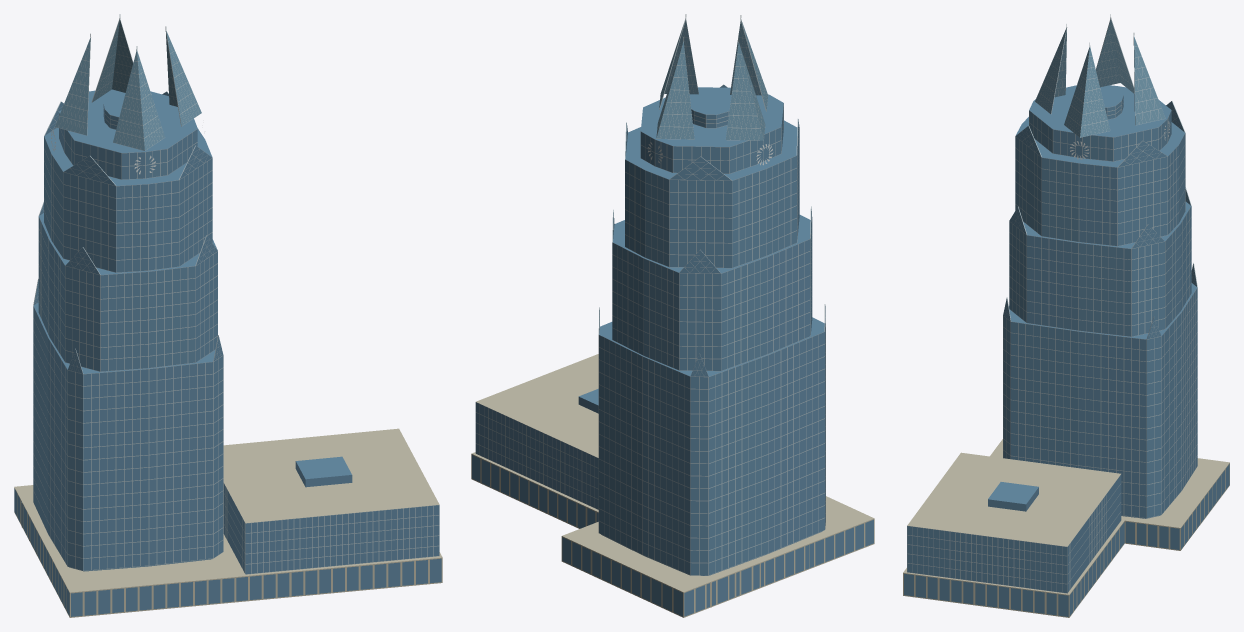
Rendered from frost-bank-tower-near.glb.
3 renders of one model, left to right at view 1: azimuth 30°, elevation 25°; view 2: azimuth 150°, elevation 25°; view 3: azimuth 270°, elevation 25°, orthographic. The views are drawn at different scales.
Parts seen in each view (by area): view 1: frost-bank-tower-0-glass, frost-bank-tower-0-blueGlass, frost-bank-tower-0-trim, frost-bank-tower-0-stone, frost-bank-tower-0-roof, frost-bank-tower-0-light, frost-bank-tower-0-occupiedGlass; view 2: frost-bank-tower-0-glass, frost-bank-tower-0-blueGlass, frost-bank-tower-0-trim, frost-bank-tower-0-stone, frost-bank-tower-0-roof, frost-bank-tower-0-light, frost-bank-tower-0-occupiedGlass; view 3: frost-bank-tower-0-glass, frost-bank-tower-0-blueGlass, frost-bank-tower-0-trim, frost-bank-tower-0-stone, frost-bank-tower-0-roof, frost-bank-tower-0-light, frost-bank-tower-0-occupiedGlass.
Boxes of the visible parts, left/top/right/bottom form: frost-bank-tower-0-glass: left=33, top=113, right=213, bottom=570; frost-bank-tower-0-blueGlass: left=14, top=129, right=441, bottom=616; frost-bank-tower-0-trim: left=33, top=14, right=439, bottom=574; frost-bank-tower-0-stone: left=14, top=428, right=442, bottom=617; frost-bank-tower-0-roof: left=33, top=89, right=352, bottom=487; frost-bank-tower-0-light: left=55, top=19, right=201, bottom=150; frost-bank-tower-0-occupiedGlass: left=33, top=136, right=223, bottom=543; frost-bank-tower-0-glass: left=599, top=127, right=824, bottom=574; frost-bank-tower-0-blueGlass: left=472, top=107, right=873, bottom=616; frost-bank-tower-0-trim: left=475, top=14, right=825, bottom=575; frost-bank-tower-0-stone: left=471, top=354, right=874, bottom=617; frost-bank-tower-0-roof: left=578, top=85, right=825, bottom=413; frost-bank-tower-0-light: left=656, top=20, right=767, bottom=140; frost-bank-tower-0-occupiedGlass: left=599, top=179, right=825, bottom=562; frost-bank-tower-0-glass: left=1011, top=111, right=1197, bottom=517; frost-bank-tower-0-blueGlass: left=904, top=111, right=1229, bottom=616; frost-bank-tower-0-trim: left=907, top=14, right=1197, bottom=593; frost-bank-tower-0-stone: left=903, top=439, right=1229, bottom=617; frost-bank-tower-0-roof: left=988, top=85, right=1197, bottom=511; frost-bank-tower-0-light: left=1035, top=19, right=1165, bottom=137; frost-bank-tower-0-occupiedGlass: left=1007, top=148, right=1197, bottom=517.
Bounding box in the file's own units: 115 × 157 × 97.69.
